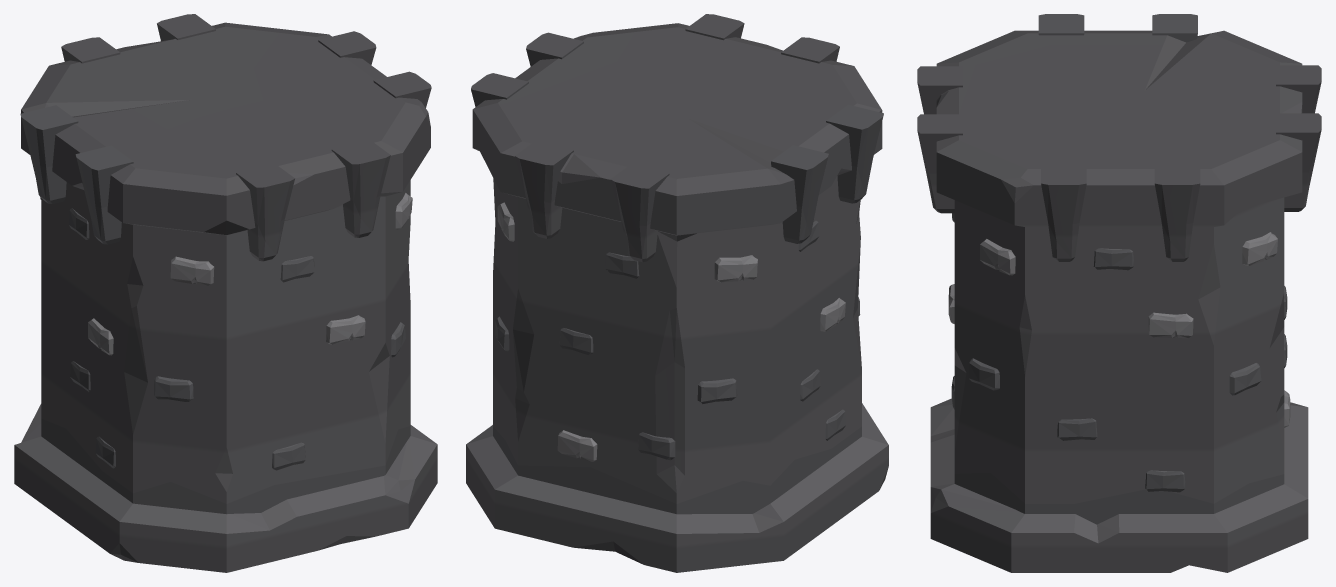
Rendered from SM_Bld_Castle_Tower_01.gltf.
3 views of the same model, side by side, from view 1: azimuth 30°, elevation 25°; view 2: azimuth 150°, elevation 25°; view 3: azimuth 270°, elevation 25° (orthographic). The views are drawn at different scales.
Parts seen in each view (by area): view 1: SM_Bld_Castle_Tower_01; view 2: SM_Bld_Castle_Tower_01; view 3: SM_Bld_Castle_Tower_01.
Boxes of the visible parts, <box> form: SM_Bld_Castle_Tower_01: <box>14,14,437,572</box>; SM_Bld_Castle_Tower_01: <box>466,14,888,572</box>; SM_Bld_Castle_Tower_01: <box>917,14,1321,572</box>.
Bounding box in the file's own units: 2.78 × 3.04 × 2.78.
1 material, 1 textured.
